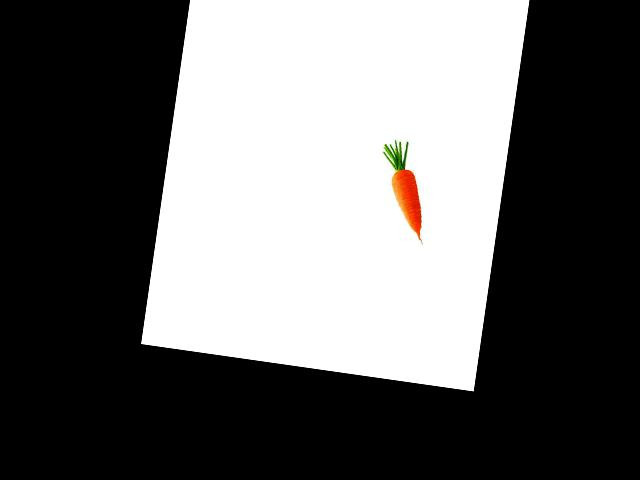carrot: (380, 177, 431, 244)
